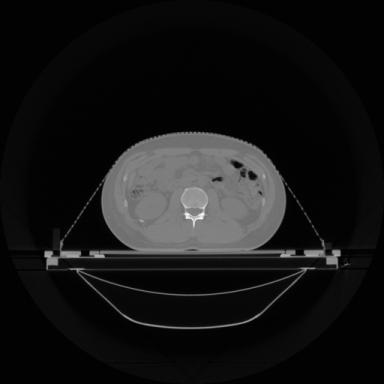body: (102, 133, 286, 250)
cord: (185, 208, 204, 228)
